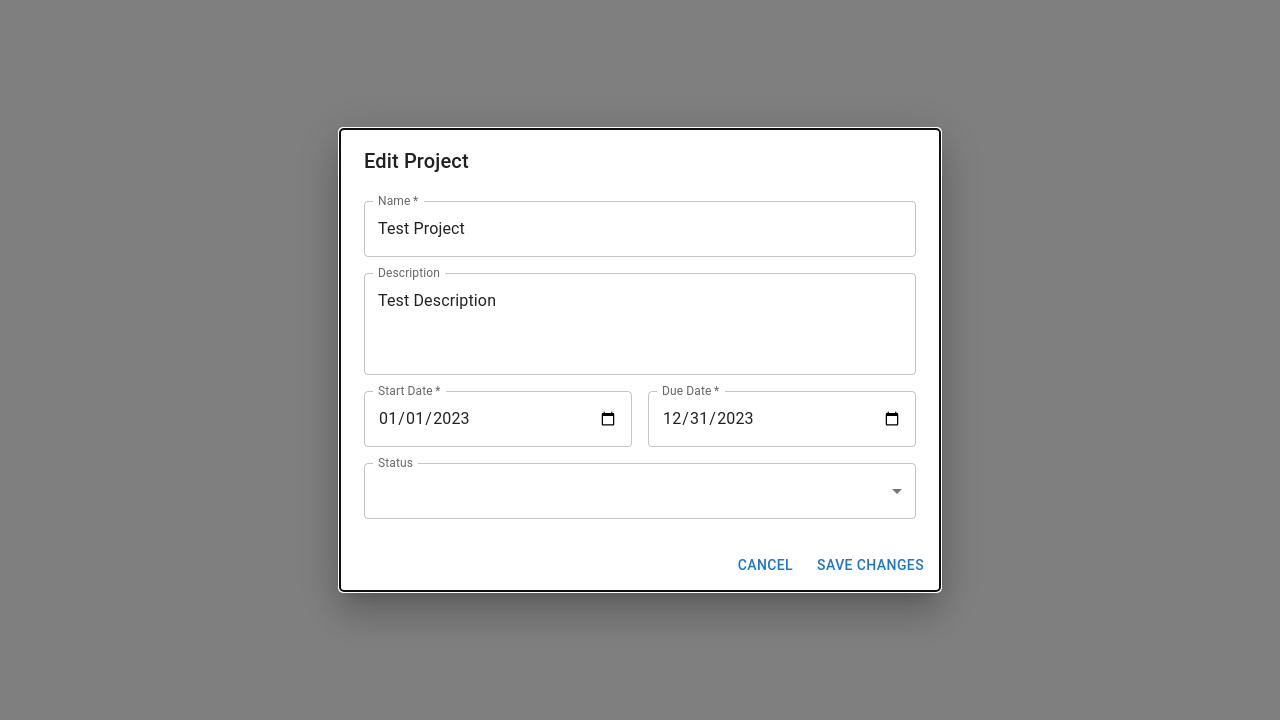
Test: ProjectEditDialog › disables buttons during loading
Click the button "Save Changes". click: [871, 565]
box: [809,547,932,583]
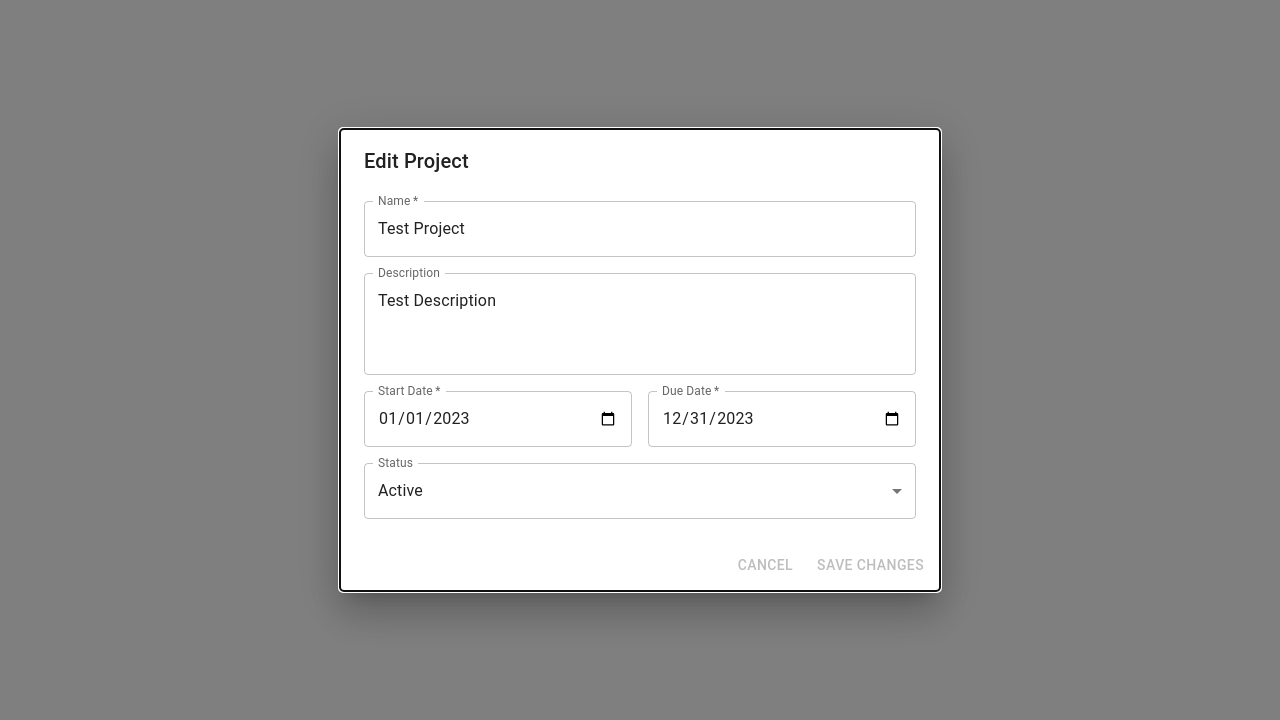
Expected: the button "Cancel" is disabled, [730,547,801,583]
Expected: the button "Save Changes" is disabled, [809,547,932,583]
